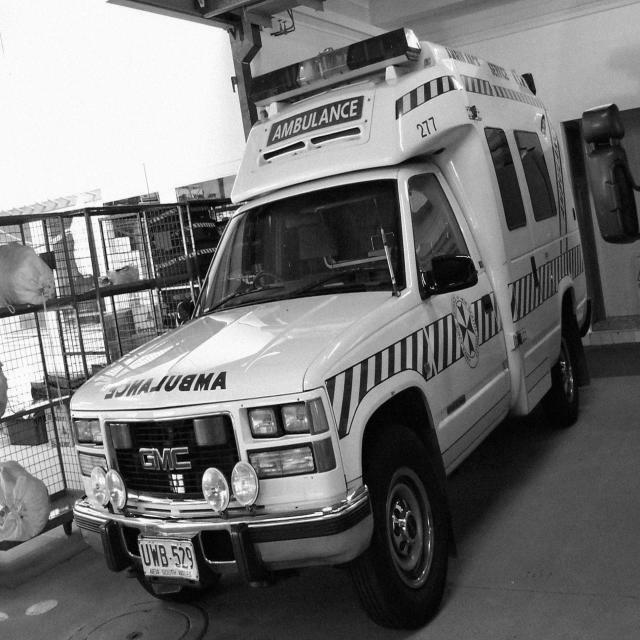Ambulance: (70, 29, 593, 633)
